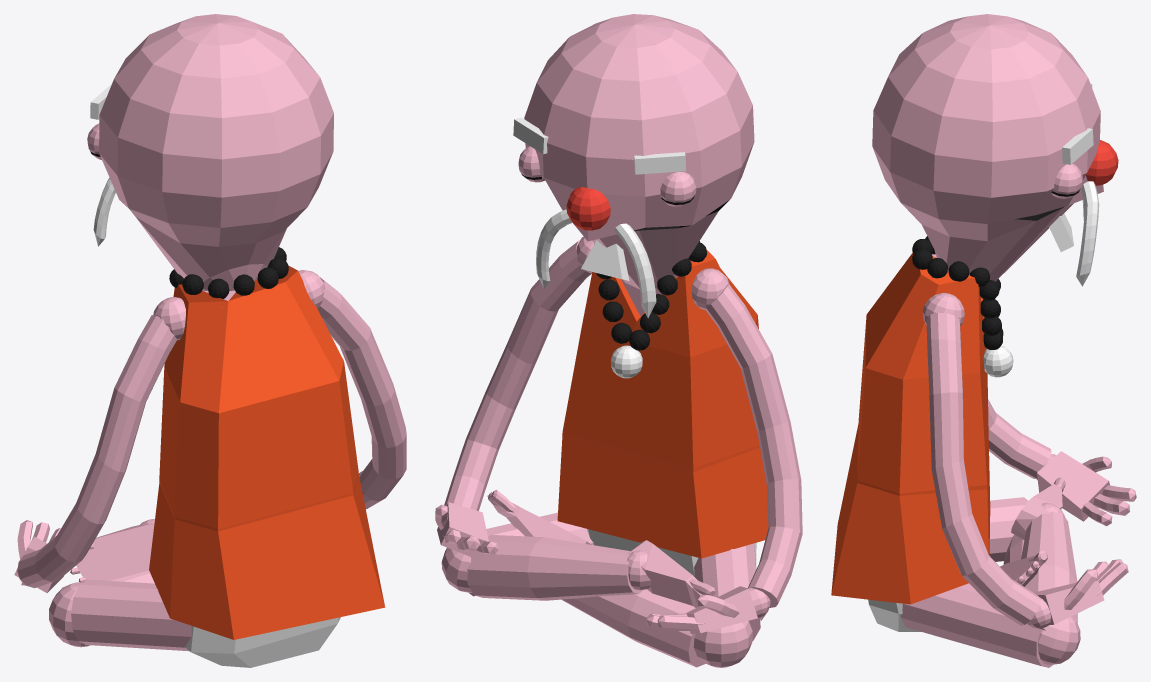
Rendered from velhozen.fbx.
The picture shows the model from 3 angles, left to right: view 1: azimuth 30°, elevation 25°; view 2: azimuth 150°, elevation 25°; view 3: azimuth 270°, elevation 25°; orthographic projection. The views are drawn at different scales.
Parts seen in each view (by area): view 1: group_35598123, group_1598515628, mesh_388488522, mesh_625192865, mesh_981413022, group_2100626857, group_482971791, mesh_668038287, group_787763284, mesh_1727117826, mesh_1292993133; view 2: group_1598515628, group_35598123, mesh_388488522, mesh_625192865, mesh_438084466, mesh_185847146, group_787763284, group_482971791, group_868784791, mesh_981413022, mesh_668038287, group_1925244537 (+6 smaller); view 3: group_1598515628, group_35598123, mesh_625192865, mesh_497084894, group_787763284, mesh_438084466, group_868784791, mesh_388488522, mesh_1167224682, mesh_981413022, group_482971791, group_2100626857 (+3 smaller).
Boxes of the visible parts, bbox=[...] form: group_35598123: bbox=[149, 266, 385, 639]; group_1598515628: bbox=[87, 14, 333, 290]; mesh_388488522: bbox=[17, 315, 177, 588]; mesh_625192865: bbox=[317, 277, 406, 509]; mesh_981413022: bbox=[71, 579, 191, 651]; group_2100626857: bbox=[185, 617, 340, 667]; group_482971791: bbox=[70, 523, 154, 582]; mesh_668038287: bbox=[49, 582, 89, 647]; group_787763284: bbox=[14, 520, 63, 592]; mesh_1727117826: bbox=[153, 297, 185, 340]; mesh_1292993133: bbox=[298, 270, 324, 308]; group_1598515628: bbox=[513, 14, 754, 318]; group_35598123: bbox=[557, 249, 768, 558]; mesh_388488522: bbox=[705, 284, 802, 607]; mesh_625192865: bbox=[444, 239, 591, 510]; mesh_438084466: bbox=[466, 534, 641, 600]; mesh_185847146: bbox=[561, 589, 705, 667]; group_787763284: bbox=[646, 586, 770, 633]; group_482971791: bbox=[627, 540, 715, 607]; group_868784791: bbox=[435, 502, 498, 560]; mesh_981413022: bbox=[694, 543, 760, 640]; mesh_668038287: bbox=[693, 621, 752, 667]; group_1925244537: bbox=[487, 490, 591, 544]; group_1598515628: bbox=[872, 14, 1118, 286]; group_35598123: bbox=[831, 253, 990, 604]; mesh_625192865: bbox=[926, 312, 1040, 625]; mesh_497084894: bbox=[901, 583, 1053, 667]; group_787763284: bbox=[1036, 451, 1136, 526]; mesh_438084466: bbox=[1021, 511, 1077, 622]; group_868784791: bbox=[1027, 559, 1128, 630]; mesh_388488522: bbox=[988, 399, 1051, 478]; mesh_1167224682: bbox=[1038, 616, 1080, 664]; mesh_981413022: bbox=[989, 497, 1028, 561]; group_482971791: bbox=[1011, 477, 1065, 539]; group_2100626857: bbox=[868, 599, 920, 631].
Size of the model in its own units: 205 by 341 by 158.
